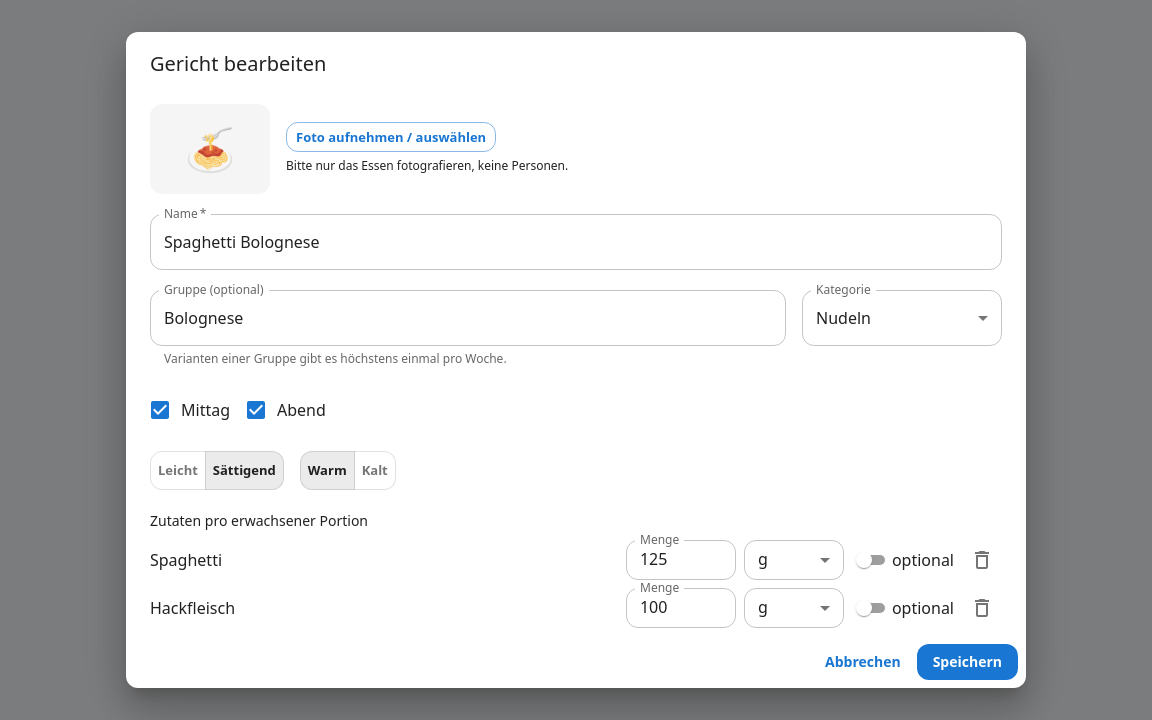
it: DishEditorDialog (FOOD-010) › edits a dish with PUT, sends removed optional fields as null and removes ingredients
The image size is (1152, 720).
Check: the field labelled "Name *" holds "Spaghetti Bolognese", box [150,214,1002,270]
Clear the dropdown labelled "Gruppe (optional)" at (453, 318), box [159,299,747,337]
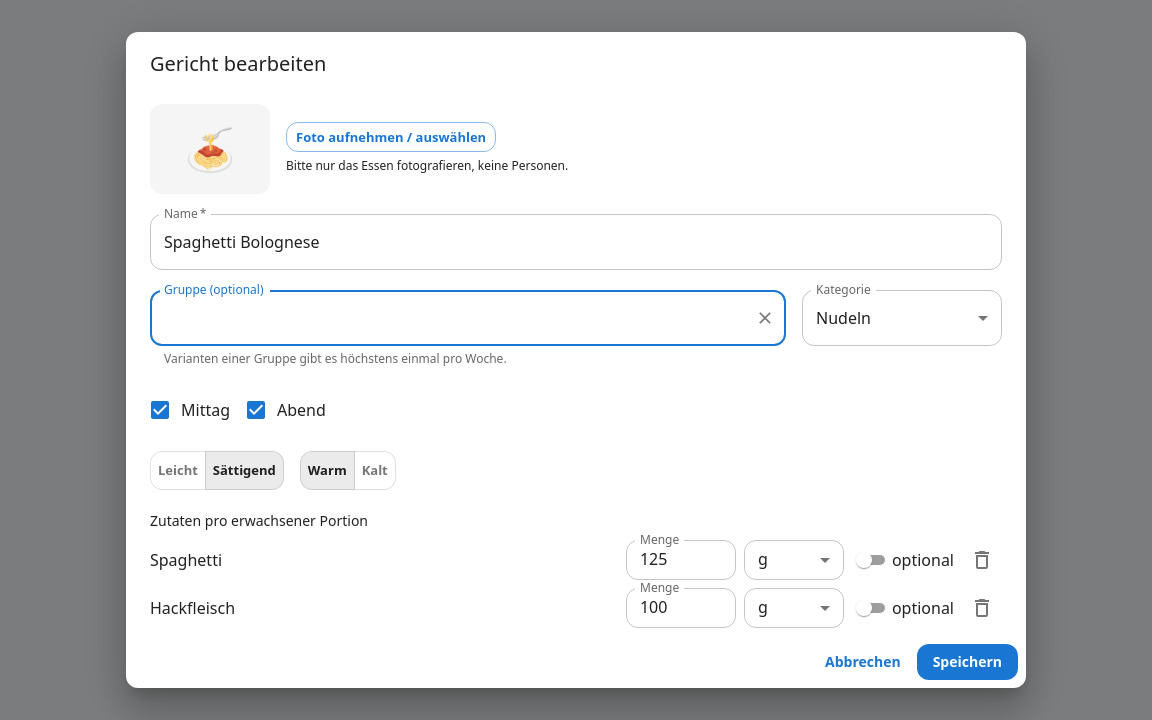
Click the button named "Hackfleisch entfernen" at (982, 608), box [962,588,1002,628]
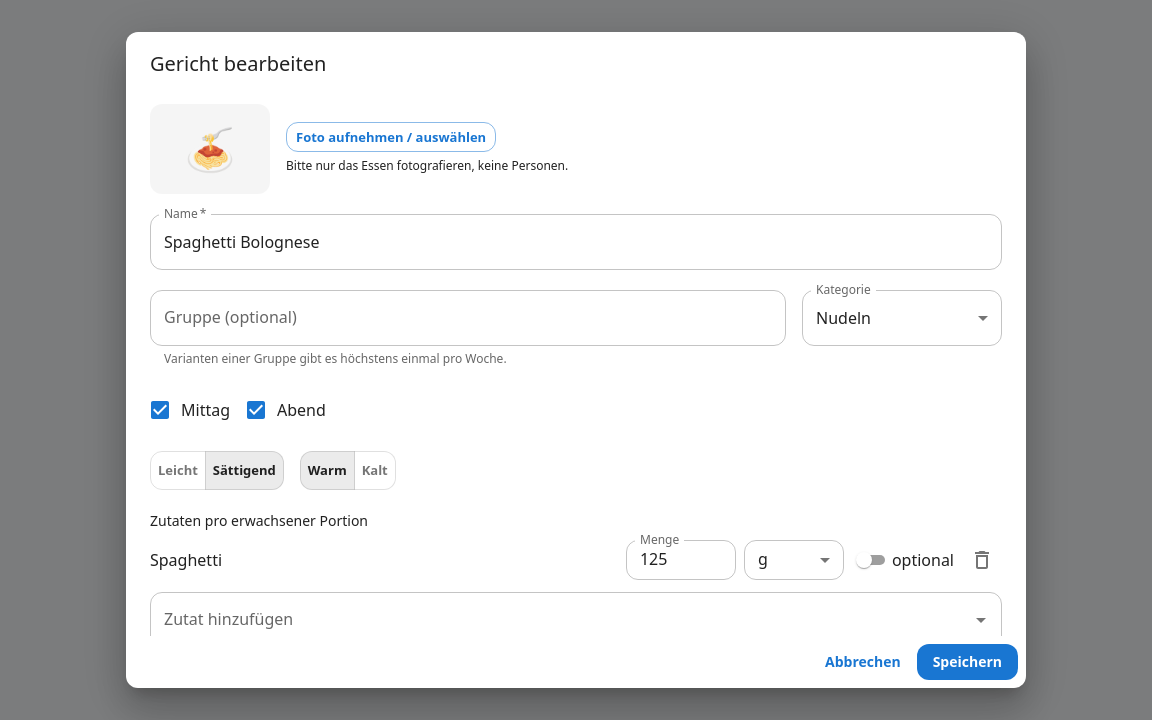
Click the button "Speichern" at (967, 662), box [917,644,1018,680]
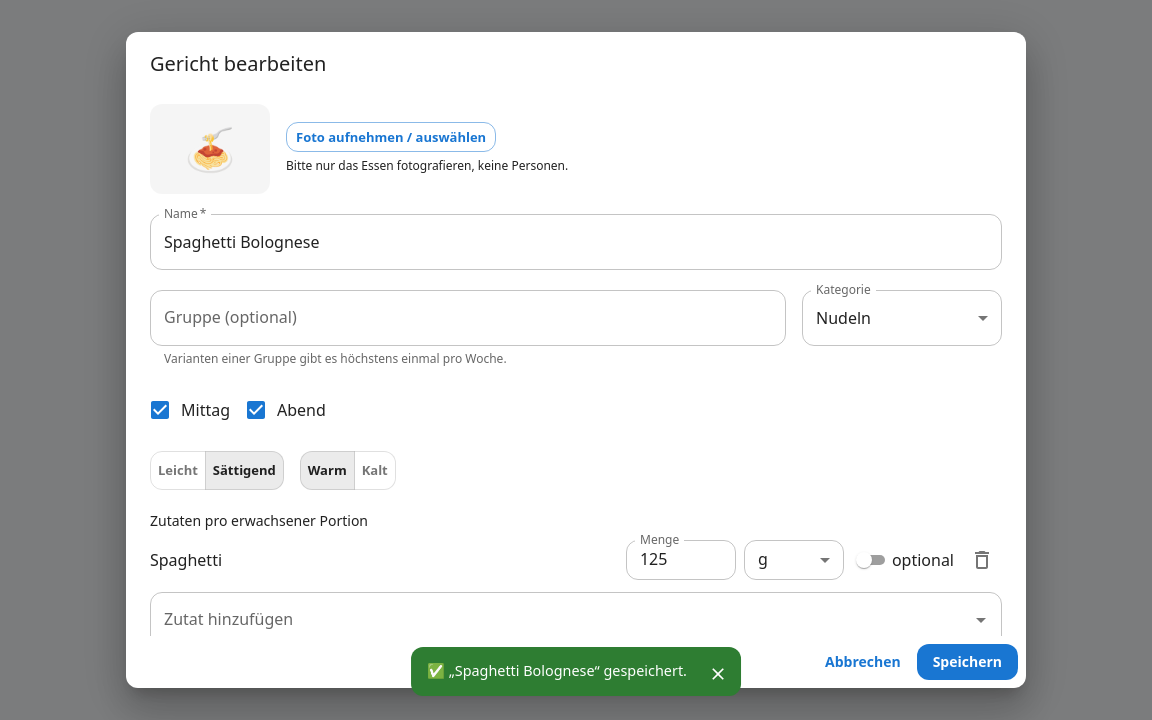
Check: the text "✅ „Spaghetti Bolognese“ gespeichert." is shown, box [427,661,687,680]
